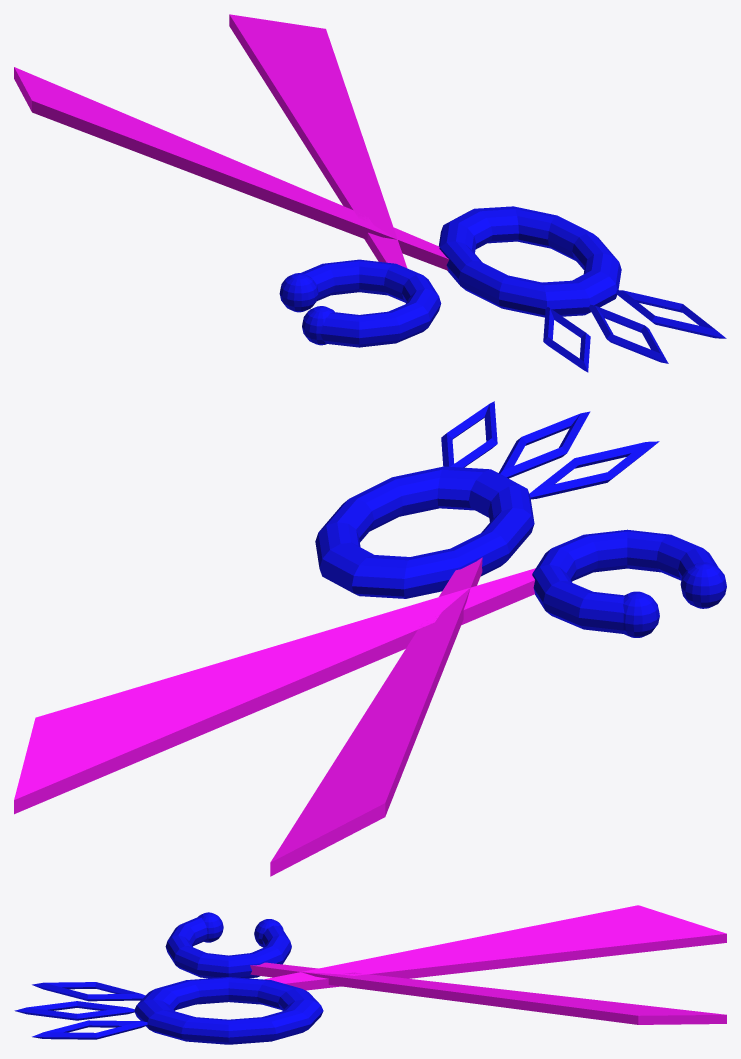
Rendered from scissors.fbx.
3 renders of one model, top to bottom at view 1: azimuth 30°, elevation 25°; view 2: azimuth 150°, elevation 25°; view 3: azimuth 270°, elevation 25°, orthographic. The views are drawn at different scales.
Visible parts, largest first — view 1: 큐브.002, Torus.005; view 2: 큐브.002, Torus.005; view 3: 큐브.002, Torus.005.
Part boxes in pixels (bbox=[...]): 큐브.002: bbox=[14, 14, 449, 270]; Torus.005: bbox=[279, 206, 726, 372]; 큐브.002: bbox=[14, 557, 535, 876]; Torus.005: bbox=[315, 401, 726, 637]; 큐브.002: bbox=[250, 905, 726, 1024]; Torus.005: bbox=[14, 912, 323, 1044].
Bounding box in the file's own units: 546 × 70 × 1411.
